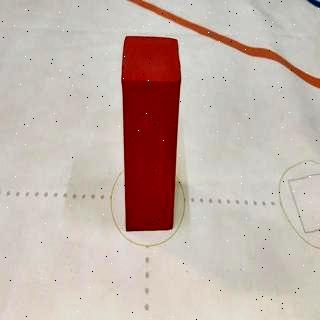redbox: (122, 37, 176, 233)
